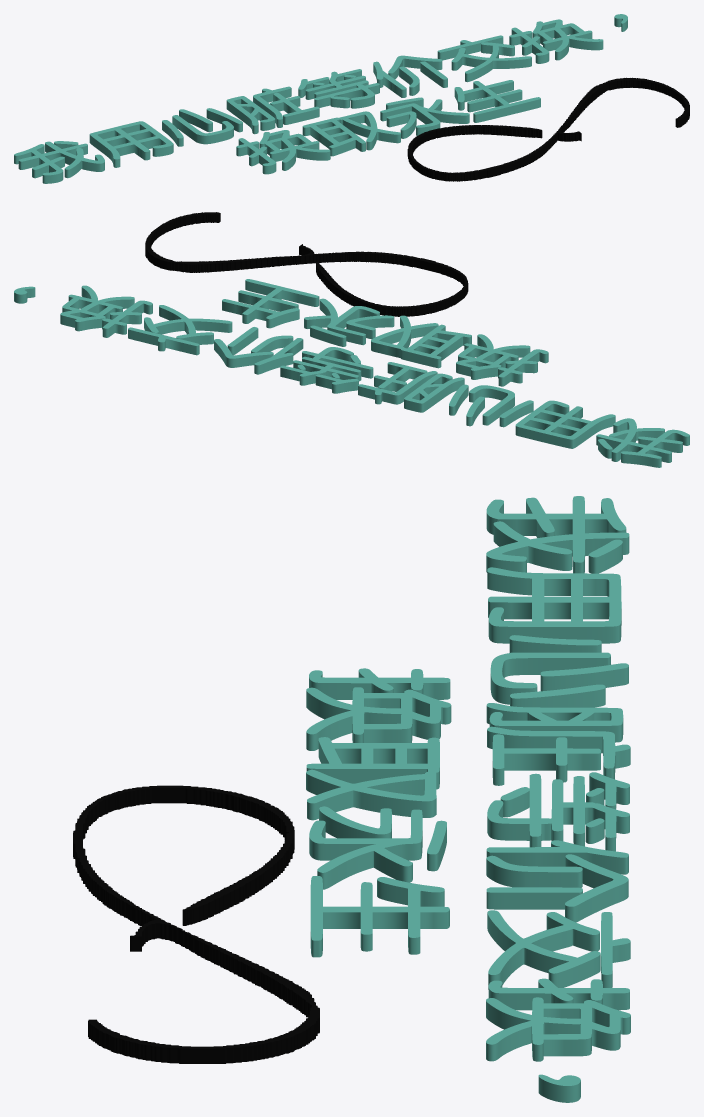
File: two.obj
3 views of the same model, one above another, from view 1: azimuth 30°, elevation 25°; view 2: azimuth 150°, elevation 25°; view 3: azimuth 270°, elevation 25° (orthographic). The views are drawn at different scales.
Visible parts, largest first — view 1: path0, path1; view 2: path0, path1; view 3: path0, path1.
Boxes of the visible parts, left/top/right/bottom form: path0: left=14, top=14, right=627, bottom=183; path1: left=407, top=77, right=689, bottom=181; path0: left=14, top=279, right=689, bottom=467; path1: left=145, top=212, right=468, bottom=316; path0: left=306, top=496, right=630, bottom=1102; path1: left=73, top=785, right=319, bottom=1063.
Size of the model in its own units: 1.66 by 0.022 by 0.6617.
